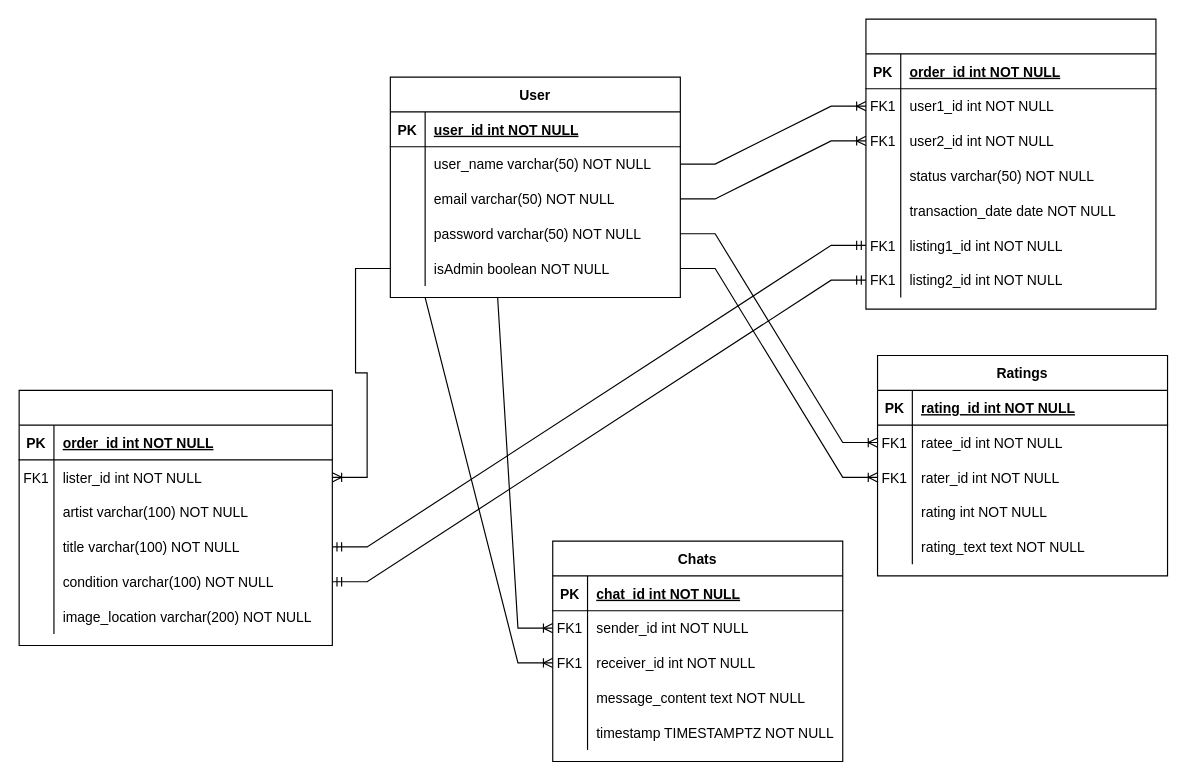
The diagram is 1187 pixels wide and 781 high, and some of its shapes have lost their labels. The shapes that lost their labels are listed below. From the top down, each one's box as (x1, y1, x2, y2) in pixels, then its label:
(865, 18, 1156, 309): Transactions
(18, 389, 332, 646): Listings
